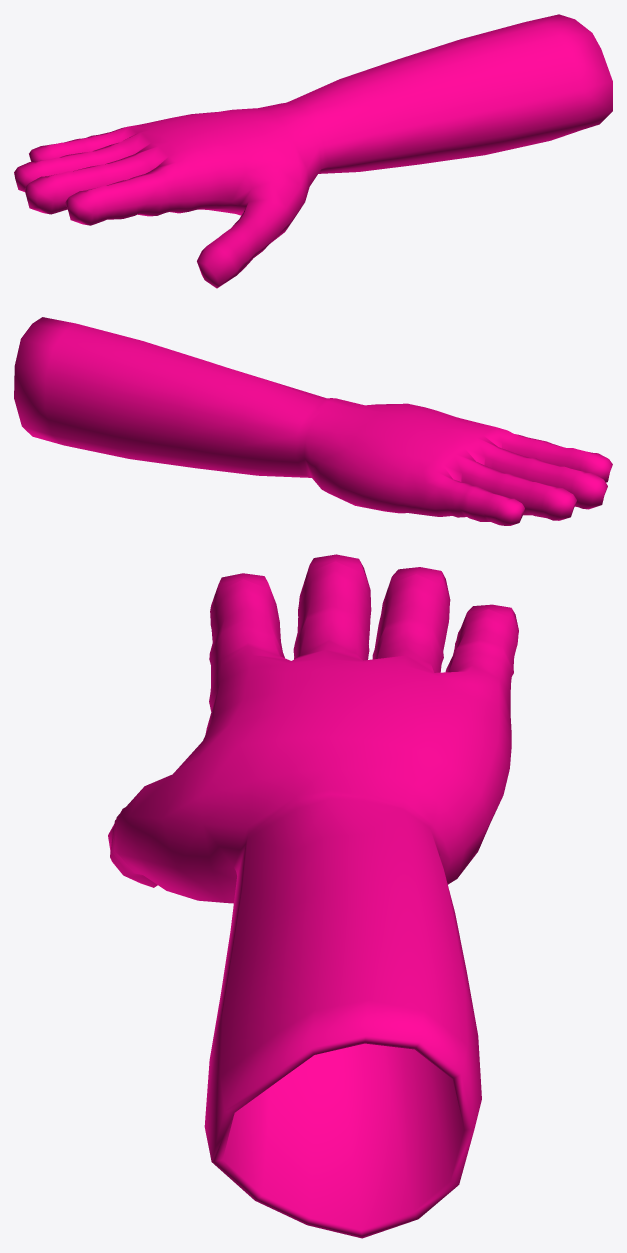
The model's file is Pink Glove.fbx.
The picture shows the model from 3 angles, top to bottom: view 1: azimuth 30°, elevation 25°; view 2: azimuth 150°, elevation 25°; view 3: azimuth 270°, elevation 25°; orthographic projection. The views are drawn at different scales.
Parts seen in each view (by area): view 1: arm001; view 2: arm001; view 3: arm001.
Part boxes in pixels (x1,y1,x2,y2): arm001: [14, 14, 612, 288]; arm001: [14, 317, 612, 525]; arm001: [108, 554, 518, 1238].
Bounding box in the file's own units: 13.19 × 2.86 × 4.19.
